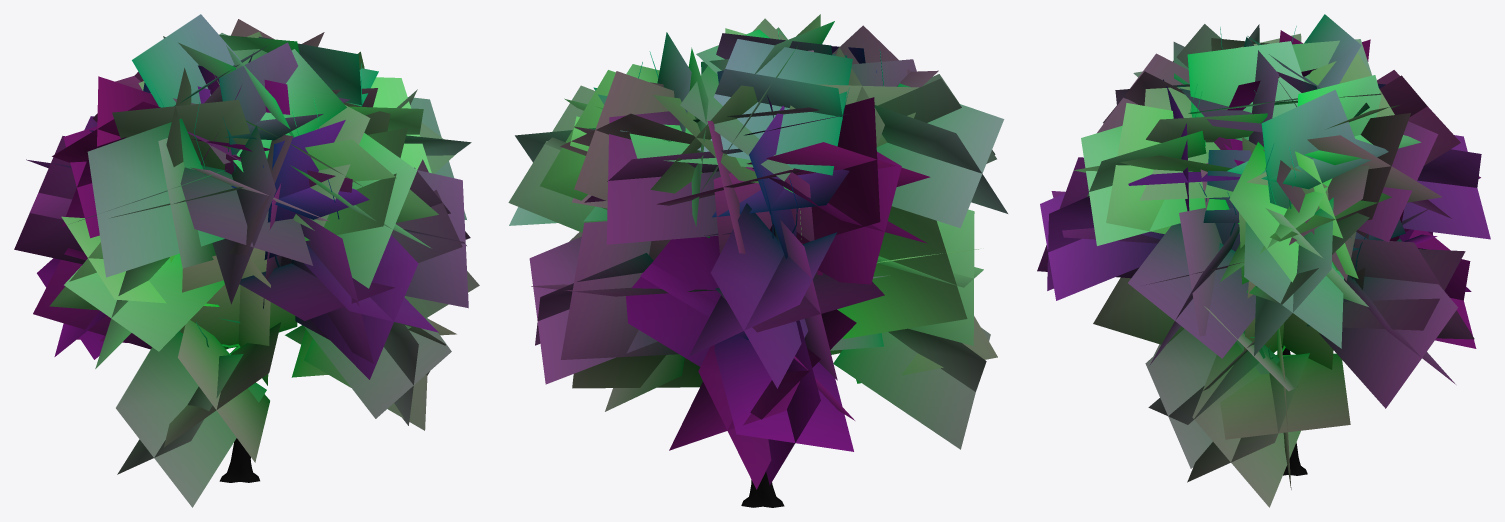
The model's file is M_P1_Tree_11.fbx.
3 views of the same model, side by side, from view 1: azimuth 30°, elevation 25°; view 2: azimuth 150°, elevation 25°; view 3: azimuth 270°, elevation 25° (orthographic). The views are drawn at different scales.
Parts seen in each view (by area): view 1: M_Tree_1_11; view 2: M_Tree_1_11; view 3: M_Tree_1_11.
Part boxes in pixels (x1,y1,x2,y2): M_Tree_1_11: [14, 14, 479, 507]; M_Tree_1_11: [508, 14, 1007, 507]; M_Tree_1_11: [1037, 14, 1490, 507].
Bounding box in the file's own units: 986 × 1005 × 977.
